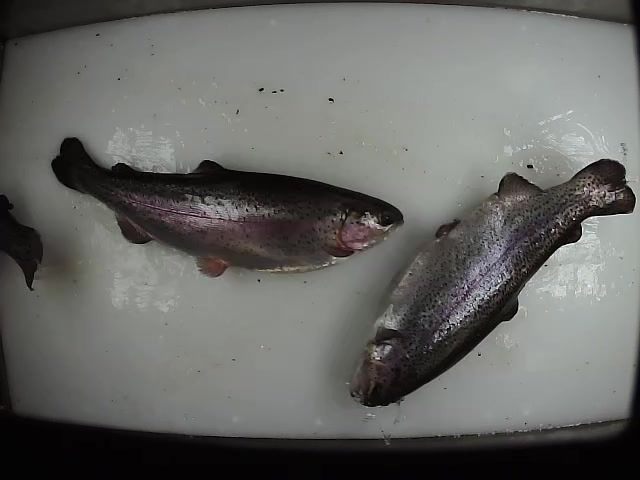fish: (347, 155, 637, 410), (48, 135, 406, 280)
